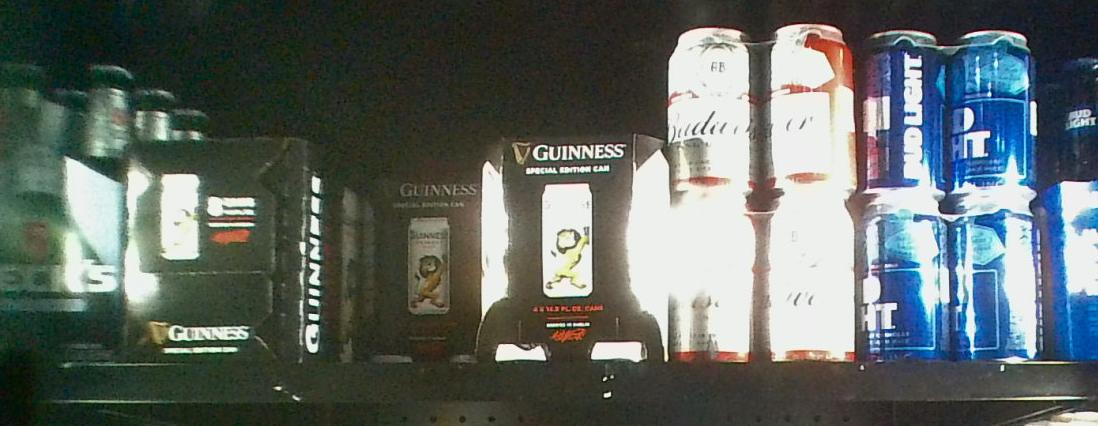bottle: (856, 31, 1045, 361), (673, 27, 854, 361), (121, 138, 332, 367), (479, 136, 667, 361), (2, 64, 123, 367), (371, 175, 481, 353)
